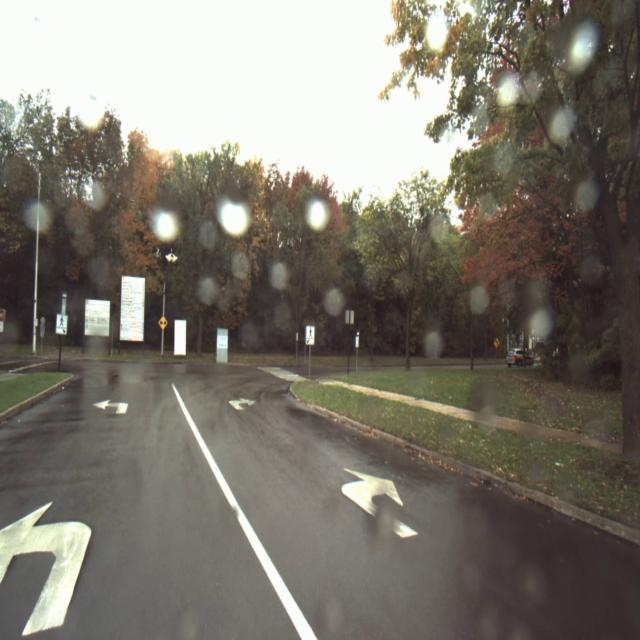car: (505, 347, 532, 369)
